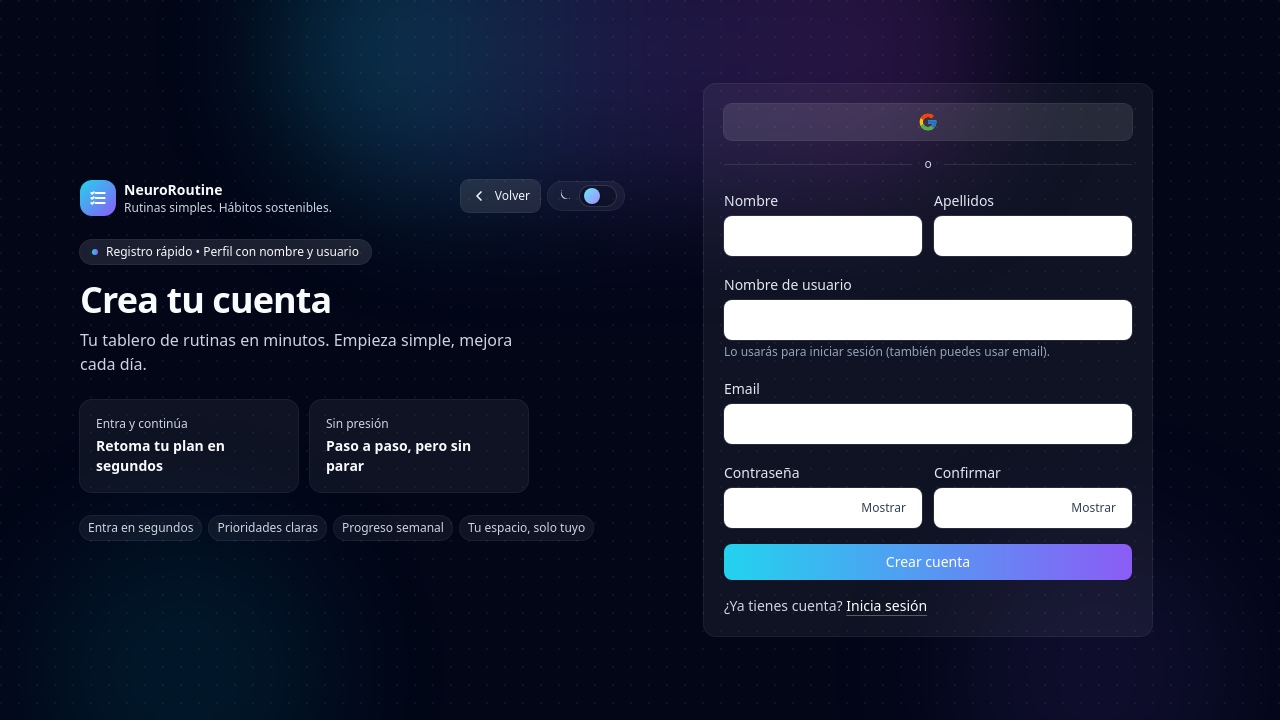
Test: RegisterPage › shows validation errors for empty required fields
Click the button "Crear cuenta" at {"x": 928, "y": 562}, box [724,544,1132,580]
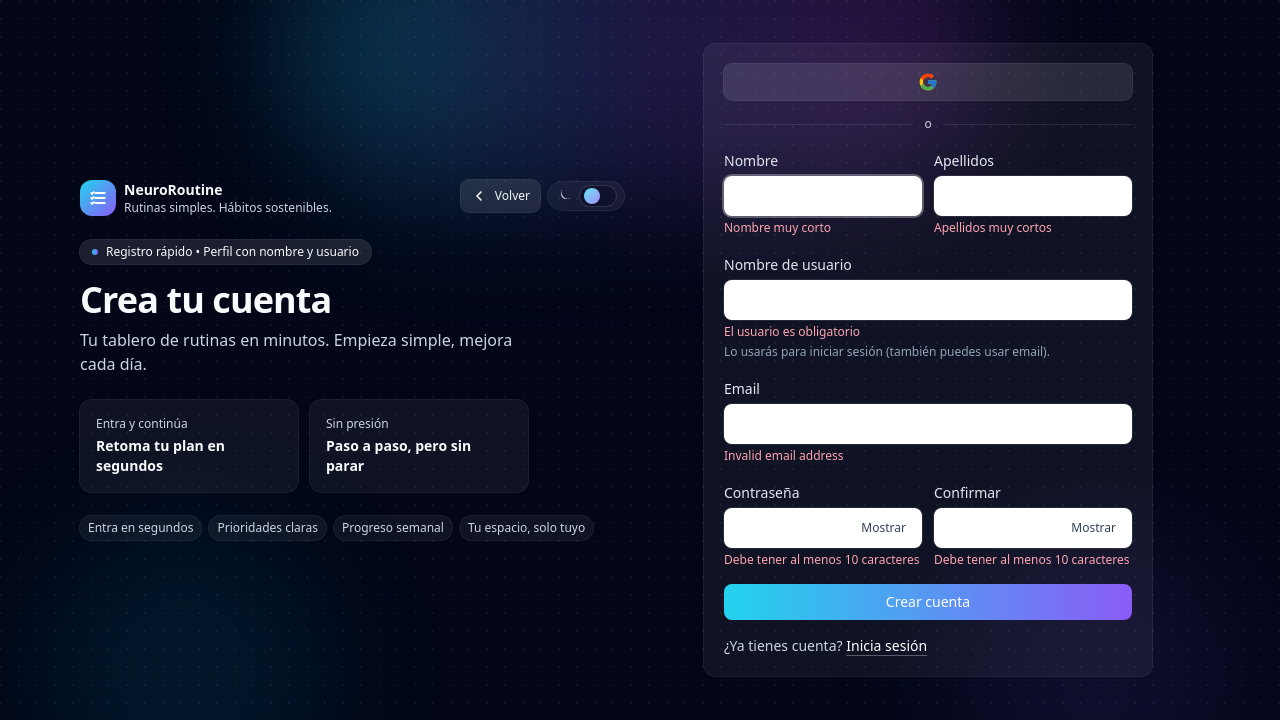
expect the text "Nombre muy corto" is shown: met, box [724,219,831,236]
expect the text "Apellidos muy cortos" is shown: met, box [934,219,1052,236]
expect the text "El usuario es obligatorio" is shown: met, box [724,323,860,340]
